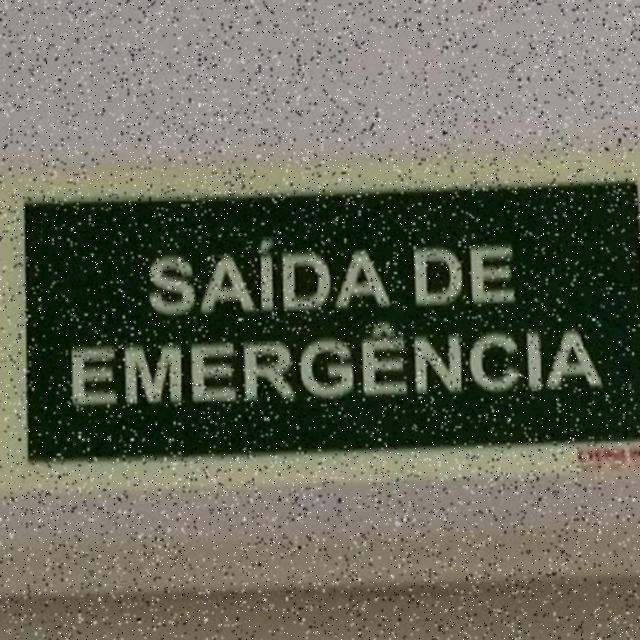emergency_exit: (23, 180, 639, 462)
